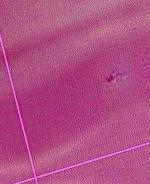knot: (105, 70, 125, 87)
